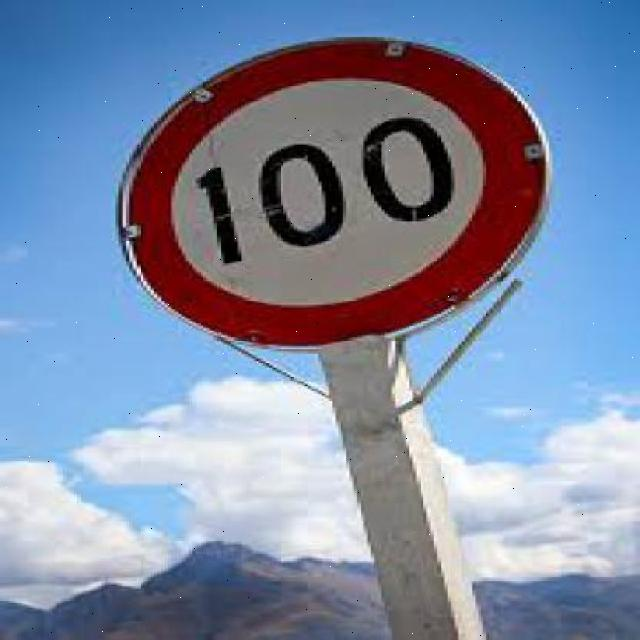speed limit 100: (114, 33, 553, 348)
